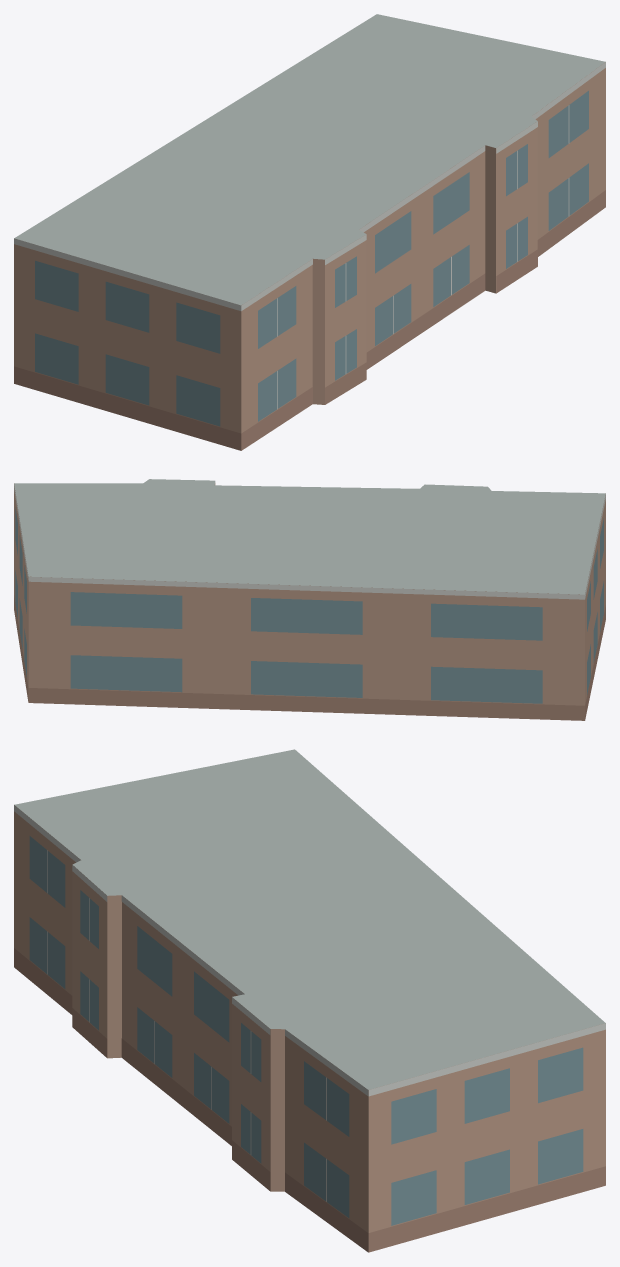
The model's file is survey-upis-32528529.glb.
The picture shows the model from 3 angles, top to bottom: view 1: azimuth 30°, elevation 25°; view 2: azimuth 150°, elevation 25°; view 3: azimuth 270°, elevation 25°; orthographic projection. The views are drawn at different scales.
Parts seen in each view (by area): view 1: survey-upis-32528529.tmp; view 2: survey-upis-32528529.tmp; view 3: survey-upis-32528529.tmp.
Boxes of the visible parts, x1,y1,x2,y2 form: survey-upis-32528529.tmp: (14,14,605,450); survey-upis-32528529.tmp: (14,479,605,720); survey-upis-32528529.tmp: (14,749,605,1252).
Bounding box in the file's own units: 27.43 × 6.1 × 20.14.
